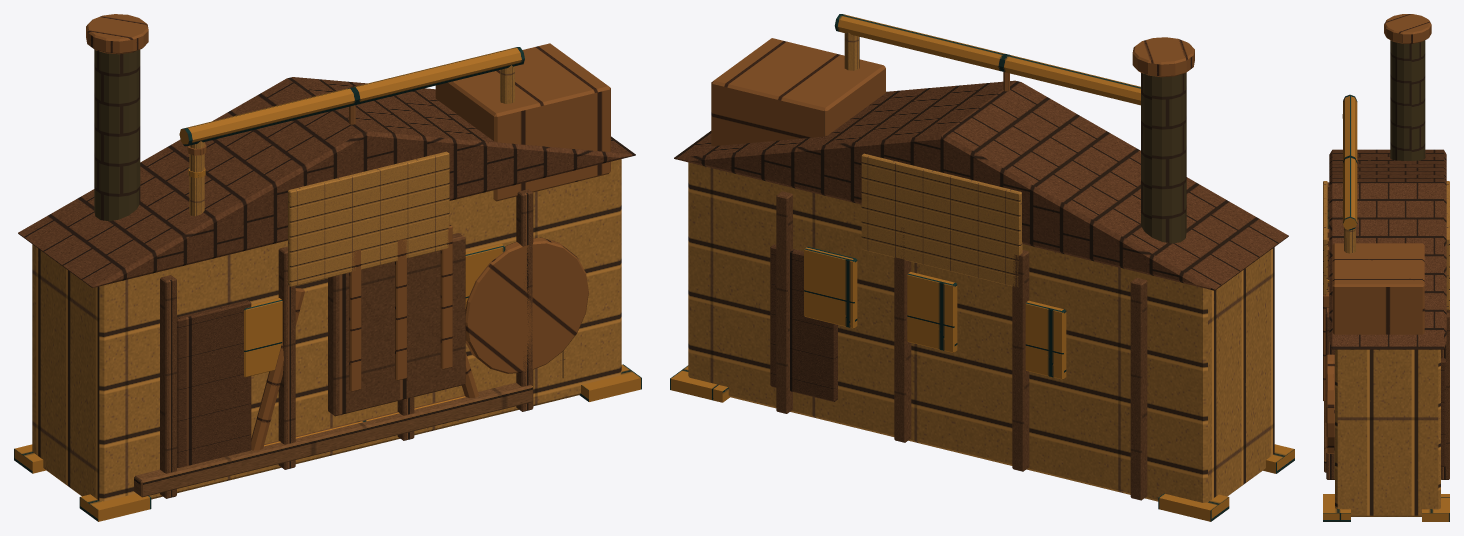
Rendered from stamp-mill.e7.glb.
3 views of the same model, side by side, from view 1: azimuth 30°, elevation 25°; view 2: azimuth 150°, elevation 25°; view 3: azimuth 270°, elevation 25° (orthographic). The views are drawn at different scales.
Parts seen in each view (by area): view 1: StampMillE7; view 2: StampMillE7; view 3: StampMillE7.
Part boxes in pixels (bbox=[...]): StampMillE7: bbox=[14, 14, 641, 521]; StampMillE7: bbox=[670, 14, 1294, 521]; StampMillE7: bbox=[1323, 14, 1449, 521].
Bounding box in the file's own units: 5.95 × 4.56 × 1.6.
Materials: 1 (1 with a texture image).
